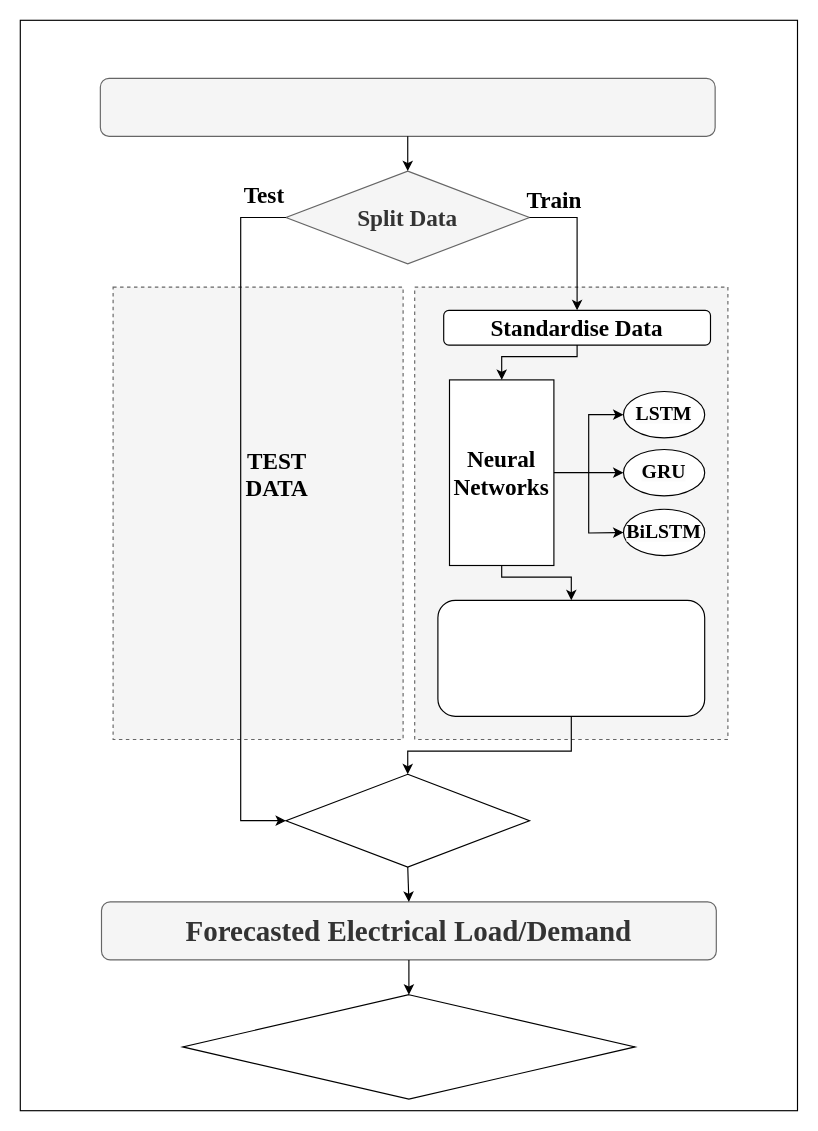
This 818x1131 diagram has some shape labels left out. Here are the shapes that lost their labels. From the top down, the box of each, then its label:
(99, 77, 715, 136): Historical Electrical Load (GREEND)
(437, 599, 705, 716): Get Future Household-Wise Power Consumption
(285, 773, 530, 867): Results Comparison
(182, 994, 635, 1099): Control Power Supplied To The Household
